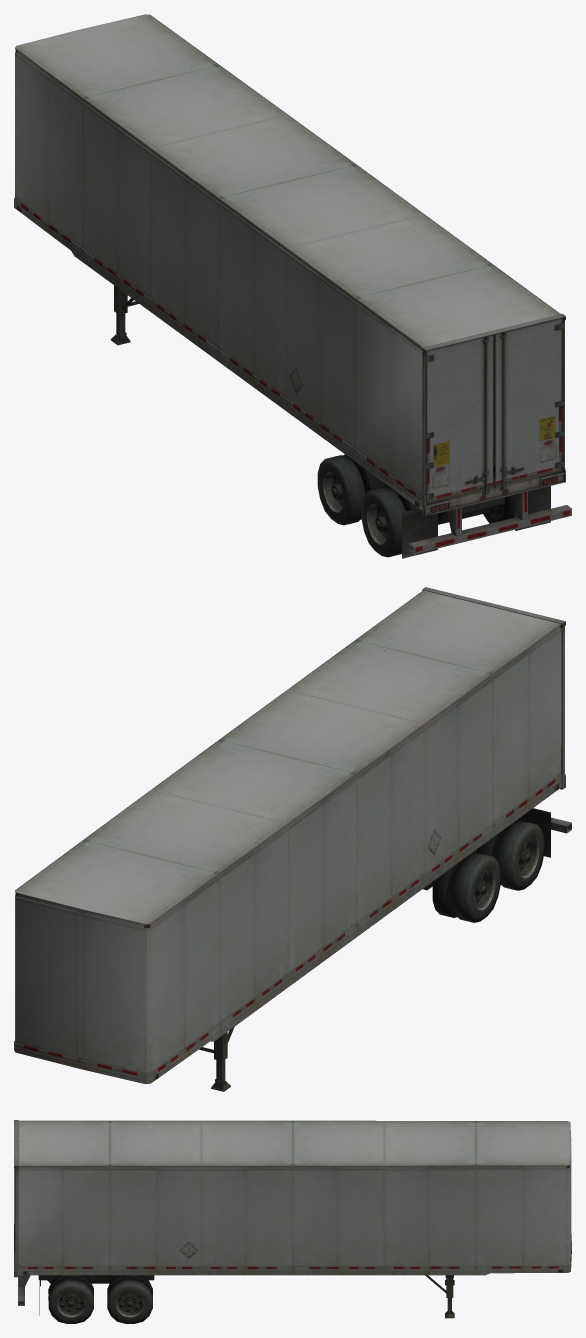
The model's file is TruckTrailer.FBX.
3 views of the same model, one above another, from view 1: azimuth 30°, elevation 25°; view 2: azimuth 150°, elevation 25°; view 3: azimuth 270°, elevation 25° (orthographic). The views are drawn at different scales.
Parts seen in each view (by area): view 1: TrailerBody, LeftTire1, LeftTire2, Suport; view 2: TrailerBody, LeftTire1, LeftTire2, Suport; view 3: TrailerBody, RightTire1, RightTire2, Suport.
Part boxes in pixels (x1=…): TrailerBody: x1=14, y1=14, x2=571, y2=558; LeftTire1: x1=317, y1=454, x2=385, y2=525; LeftTire2: x1=361, y1=486, x2=418, y2=557; Suport: x1=110, y1=285, x2=138, y2=345; TrailerBody: x1=14, y1=587, x2=571, y2=1084; LeftTire1: x1=432, y1=852, x2=500, y2=922; LeftTire2: x1=477, y1=820, x2=544, y2=890; Suport: x1=199, y1=1027, x2=234, y2=1091; TrailerBody: x1=14, y1=1120, x2=571, y2=1315; RightTire1: x1=107, y1=1275, x2=152, y2=1323; RightTire2: x1=48, y1=1275, x2=93, y2=1323; Suport: x1=425, y1=1275, x2=454, y2=1318.
Size of the model in its own units: 118 by 166 by 535.
